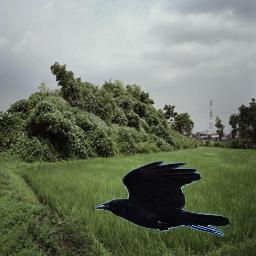Crow: (95, 161, 231, 237)
